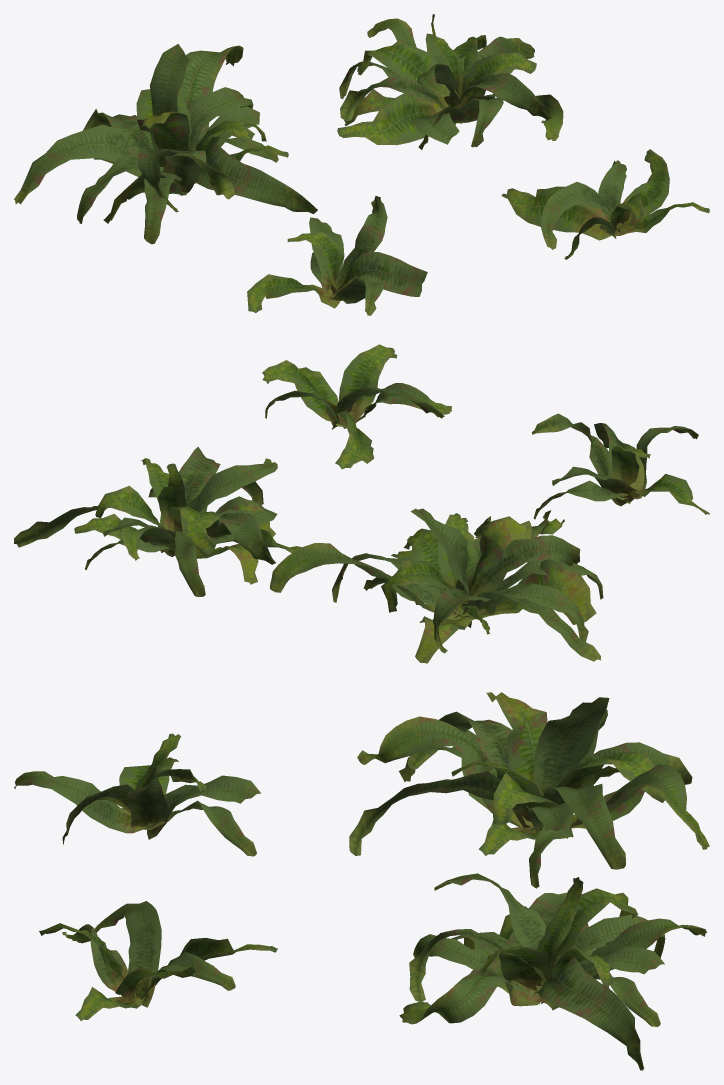
Rendered from fern_02.glb.
3 views of the same model, one above another, from view 1: azimuth 30°, elevation 25°; view 2: azimuth 150°, elevation 25°; view 3: azimuth 270°, elevation 25° (orthographic). The views are drawn at different scales.
Parts seen in each view (by area): view 1: fern_02_b; view 2: fern_02_b; view 3: fern_02_b.
Part boxes in pixels (left/top/right/bottom): fern_02_b: left=14, top=14, right=709, bottom=315; fern_02_b: left=14, top=344, right=709, bottom=663; fern_02_b: left=14, top=692, right=709, bottom=1070.
Bounding box in the file's own units: 1.97 × 0.4277 × 1.72.
1 material, 1 textured.
